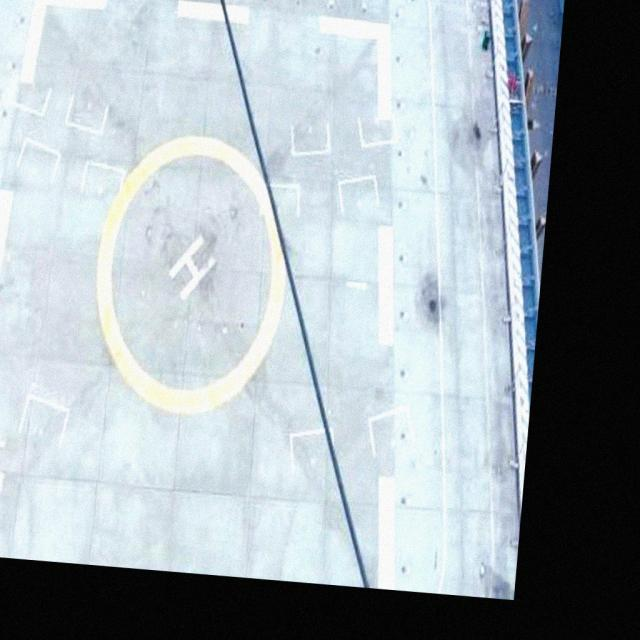helipad: (90, 130, 290, 418)
